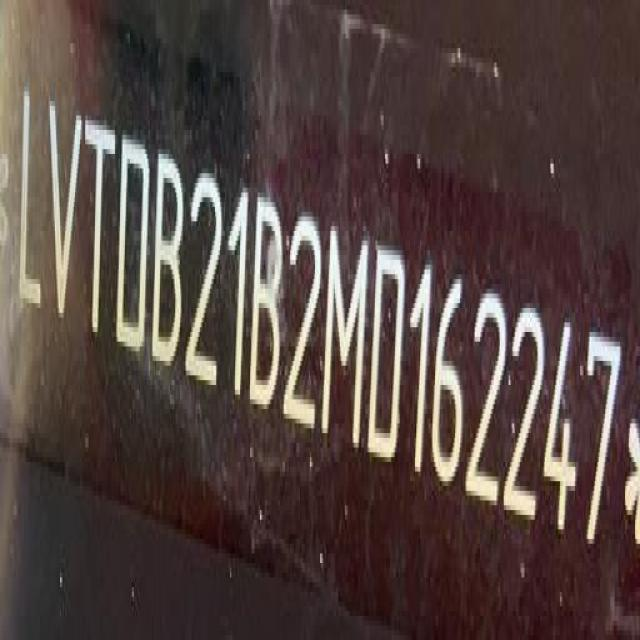1: (409, 253, 432, 483), (226, 174, 248, 403)
2: (507, 299, 546, 529), (286, 202, 323, 436), (189, 162, 225, 394), (468, 285, 503, 513)
4: (544, 311, 582, 542)
6: (432, 266, 466, 494)
7: (585, 330, 623, 553)
B: (251, 188, 285, 420), (152, 147, 186, 376)
D: (371, 237, 408, 472), (116, 128, 152, 362)
L: (18, 87, 46, 325)
M: (322, 218, 368, 453)
T: (85, 112, 117, 352)
V: (44, 98, 81, 337)
